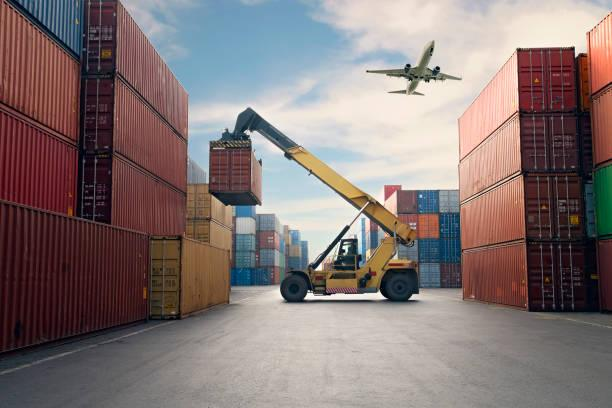Non_Gorille: (126, 0, 612, 361)
